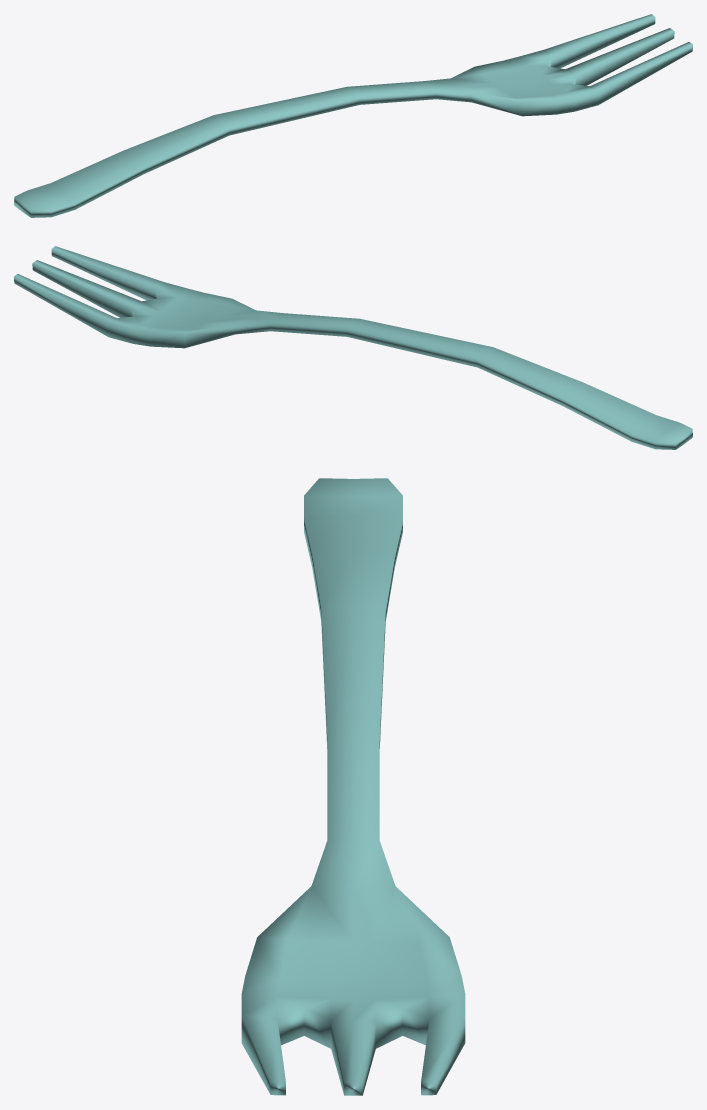
Rendered from fork.fbx.
3 renders of one model, top to bottom at view 1: azimuth 30°, elevation 25°; view 2: azimuth 150°, elevation 25°; view 3: azimuth 270°, elevation 25°, orthographic. The views are drawn at different scales.
Parts seen in each view (by area): view 1: pCube212; view 2: pCube212; view 3: pCube212.
Part boxes in pixels (<box>): pCube212: <box>14,14,692,217</box>; pCube212: <box>14,246,692,449</box>; pCube212: <box>241,478,465,1095</box>.
Size of the model in its own units: 0.2733 by 0.0211 by 0.0407.
